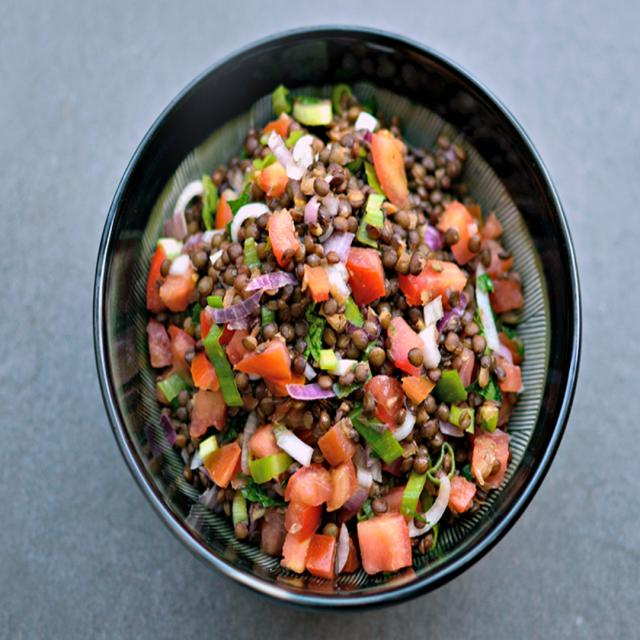lentejas: (103, 56, 568, 608)
